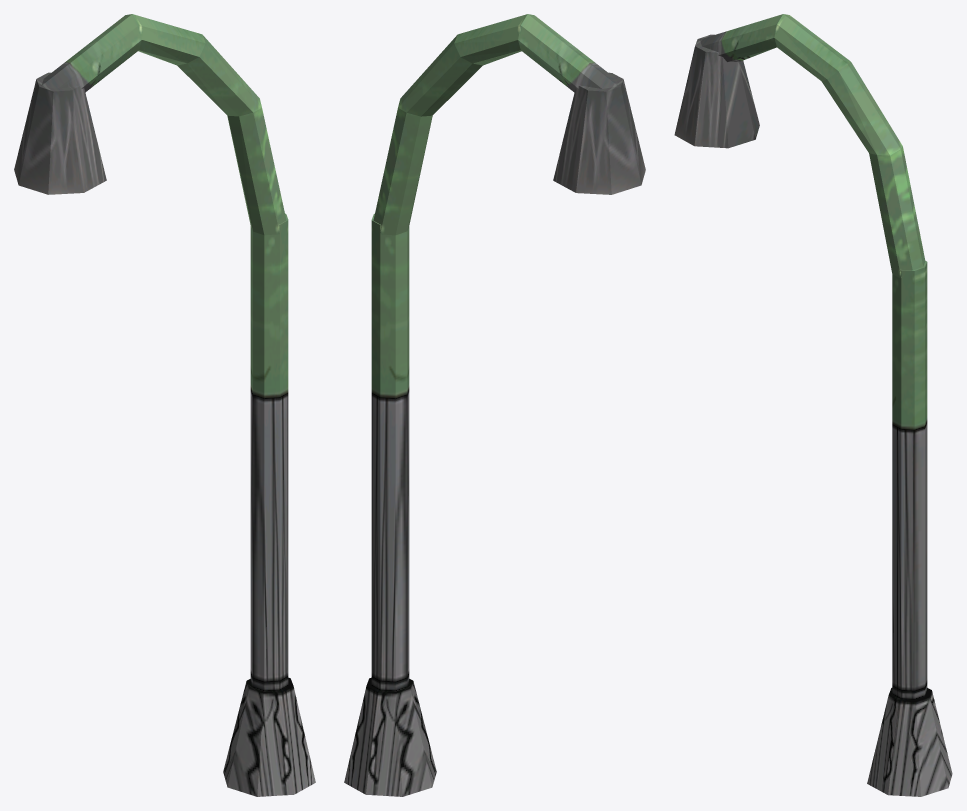
Rendered from Slight.glb.
The picture shows the model from 3 angles, left to right: view 1: azimuth 30°, elevation 25°; view 2: azimuth 150°, elevation 25°; view 3: azimuth 330°, elevation 25°; orthographic projection. The views are drawn at different scales.
Visible parts, largest first — view 1: Slight; view 2: Slight; view 3: Slight.
Part boxes in pixels (bbox=[...]): Slight: bbox=[14, 14, 315, 796]; Slight: bbox=[344, 14, 645, 796]; Slight: bbox=[674, 14, 952, 796].
Size of the model in its own units: 74.04 by 192 by 21.09.
Materials: 1 (1 with a texture image).
